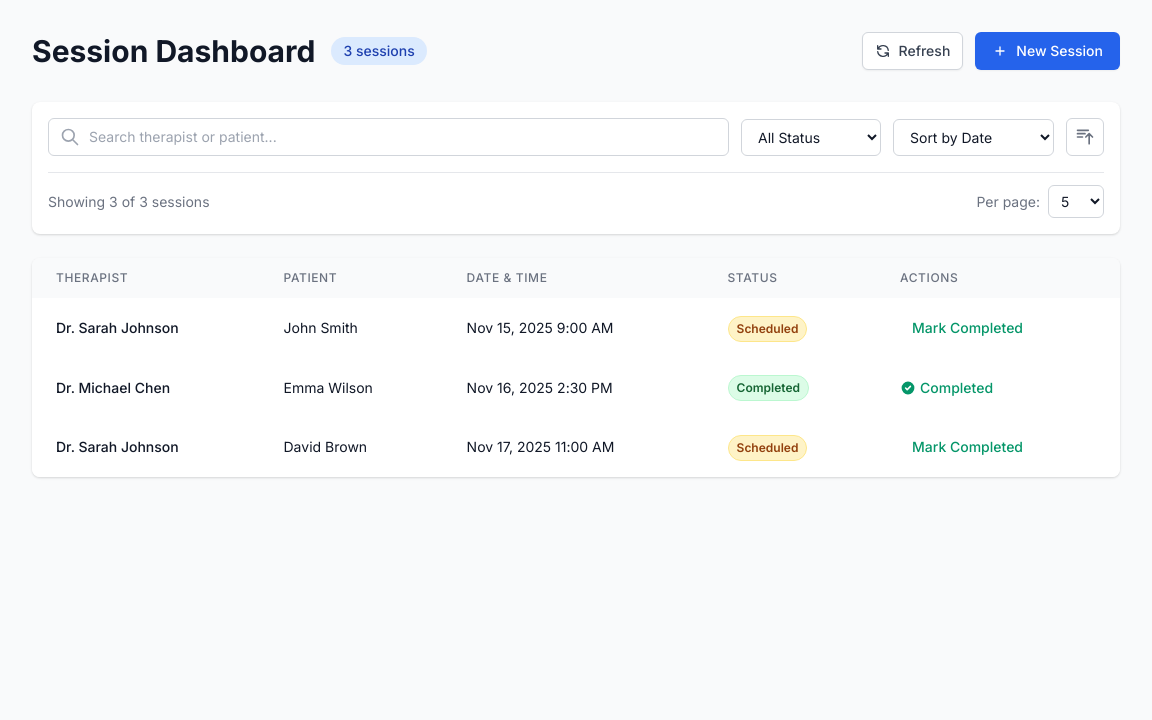
it: Dashboard Page › Session Management › refreshes sessions after creating a new one
expect the text "Dr. Sarah Johnson" next to "John Smith" is shown: met, box [56, 319, 179, 336]
// Open modal
Click the button "New Session". click: (1048, 51)
box: [975, 32, 1120, 70]
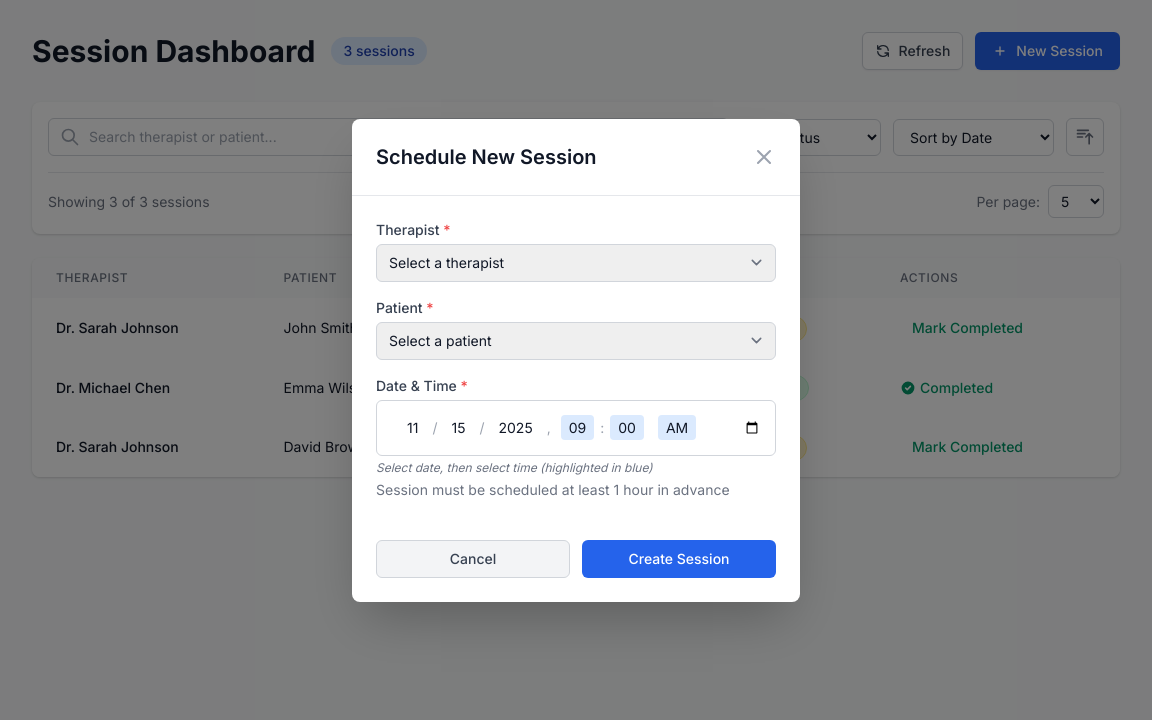
expect the heading "Schedule New Session" is shown: met, box [376, 142, 597, 170]
